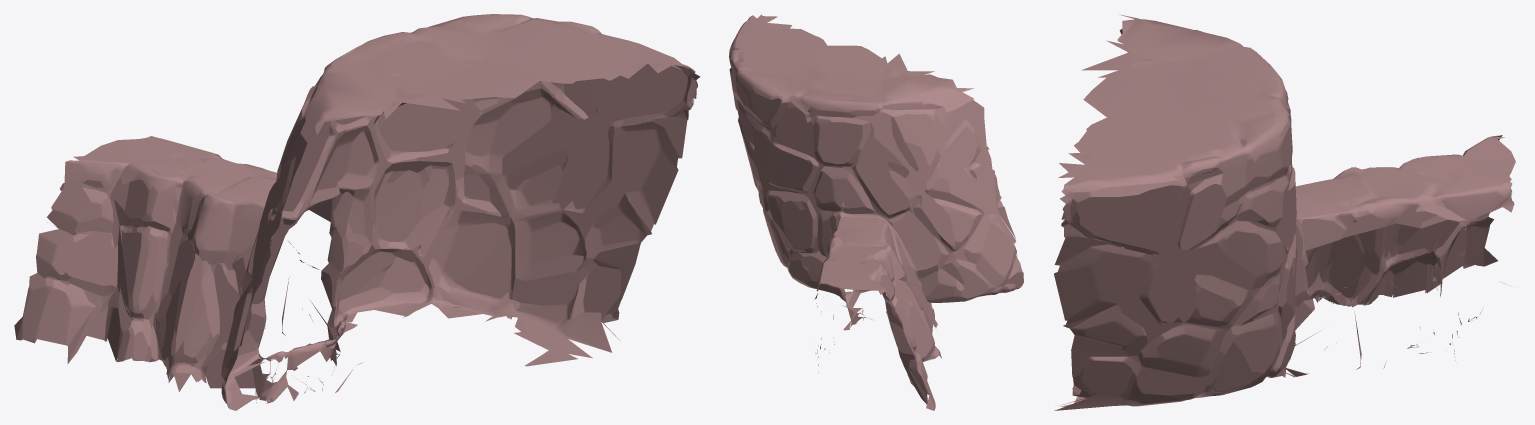
Rendered from canyon.fbx_PolyShape__3__001LODs.fbx.
3 renders of one model, left to right at view 1: azimuth 30°, elevation 25°; view 2: azimuth 150°, elevation 25°; view 3: azimuth 270°, elevation 25°, orthographic. The views are drawn at different scales.
Visible parts, largest first — view 1: PolyShape (3).001_LOD0; view 2: PolyShape (3).001_LOD0; view 3: PolyShape (3).001_LOD0.
Part boxes in pixels (left/top/right/bottom): PolyShape (3).001_LOD0: left=14, top=14, right=700, bottom=410; PolyShape (3).001_LOD0: left=729, top=14, right=1023, bottom=410; PolyShape (3).001_LOD0: left=1054, top=14, right=1515, bottom=410.
Size of what is drawn, in the model's own units: 6525 by 4321 by 5435.
